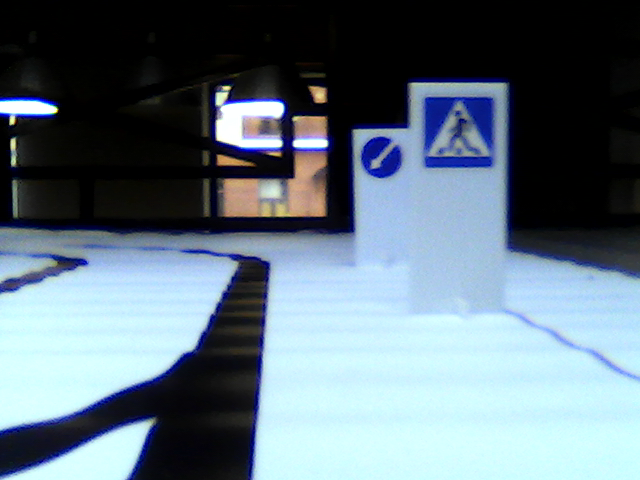pesh: (418, 93, 498, 172)
prep: (359, 134, 403, 178)
